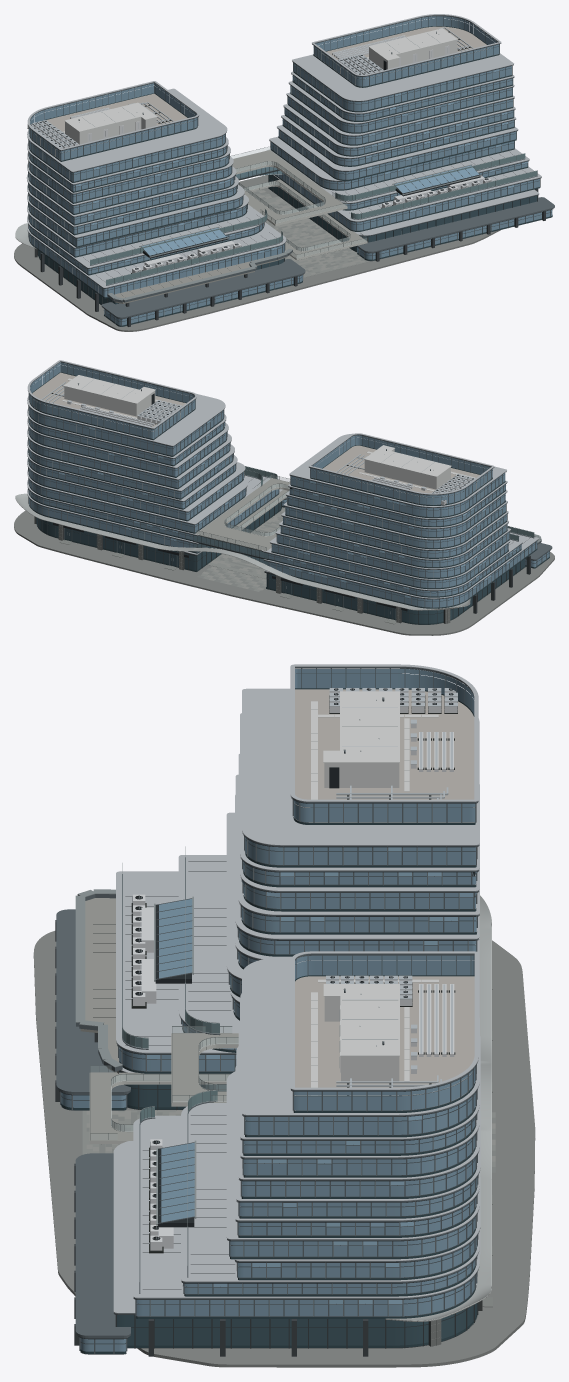
Rendered from zijin-kechuang-video-details-v1.glb.
3 views of the same model, one above another, from view 1: azimuth 30°, elevation 25°; view 2: azimuth 150°, elevation 25°; view 3: azimuth 270°, elevation 25° (orthographic). The views are drawn at different scales.
Parts seen in each view (by area): view 1: C_Foundation__stone, B_L11_FloorBands__edge, B_L12_Glazing__glass0, A_RearPodium_Canopy__metal, A_L12_Glazing__glass0, A_L11_FloorBands__edge, V4_庭院灰石错缝铺装, V4_L3_连续圆角天井连廊_含前部露台, B_RearPodium_Canopy__metal, B_L02_Glazing__glass0, B_L11_Glazing__glass0, A_L02_Glazing__glass0 (+95 smaller); view 2: C_Foundation__stone, A_L12_Glazing__glass0, B_L12_Glazing__glass0, A_L01_Glazing__glass0, V4_L3_连续圆角天井连廊_含前部露台, B_L01_Glazing__glass0, A_L02_Glazing__glass0, B_L11_FloorBands__edge, A_L11_Glazing__glass0, A_L04_Glazing__glass0, A_L05_Glazing__glass0, B_L11_Glazing__glass0 (+97 smaller); view 3: C_Foundation__stone, A_L11_FloorBands__edge, A_RoofDeck__roof, B_RoofDeck__roof, B_L11_FloorBands__edge, B_L03_FloorBands__edge, B_L01_Glazing__glass0, B_RearPodium_Canopy__metal, A_L03_FloorBands__edge, A_L02_FloorBands__edge, B_L02_FloorBands__edge, A_L12_Glazing__glass0 (+73 smaller).
Part boxes in pixels (x1,y1,x2,y2): C_Foundation__stone: (14, 175, 500, 331); B_L11_FloorBands__edge: (292, 34, 513, 100); B_L12_Glazing__glass0: (313, 16, 499, 86); A_RearPodium_Canopy__metal: (101, 259, 305, 318); A_L12_Glazing__glass0: (29, 83, 197, 160); A_L11_FloorBands__edge: (27, 88, 227, 171); V4_庭院灰石错缝铺装: (263, 198, 367, 276); V4_L3_连续圆角天井连廊_含前部露台: (232, 150, 347, 226); B_RearPodium_Canopy__metal: (357, 197, 554, 252); B_L02_Glazing__glass0: (276, 173, 539, 230); B_L11_Glazing__glass0: (293, 63, 511, 110); A_L02_Glazing__glass0: (29, 234, 284, 295); C_Foundation__stone: (14, 507, 554, 635); A_L12_Glazing__glass0: (310, 435, 492, 504); B_L12_Glazing__glass0: (30, 362, 195, 438); A_L01_Glazing__glass0: (266, 559, 526, 623); V4_L3_连续圆角天井连廊_含前部露台: (196, 478, 290, 551); B_L01_Glazing__glass0: (36, 501, 281, 570); A_L02_Glazing__glass0: (268, 542, 535, 607); B_L11_FloorBands__edge: (27, 366, 225, 445); A_L11_Glazing__glass0: (291, 473, 505, 516); A_L04_Glazing__glass0: (272, 544, 508, 587); A_L05_Glazing__glass0: (277, 532, 509, 577); B_L11_Glazing__glass0: (29, 407, 223, 455); C_Foundation__stone: (33, 931, 535, 1367); A_L11_FloorBands__edge: (242, 688, 479, 845); A_RoofDeck__roof: (294, 689, 474, 822); B_RoofDeck__roof: (295, 976, 474, 1110); B_L11_FloorBands__edge: (242, 957, 479, 1115); B_L03_FloorBands__edge: (181, 1103, 479, 1281); B_L01_Glazing__glass0: (117, 1305, 473, 1345); B_RearPodium_Canopy__metal: (75, 1153, 130, 1337); A_L03_FloorBands__edge: (178, 855, 239, 1033); A_L02_FloorBands__edge: (116, 871, 235, 1053); B_L02_FloorBands__edge: (133, 1115, 479, 1298); A_L12_Glazing__glass0: (294, 669, 475, 822).
Size of the model in its own units: 82 by 24.03 by 39.38.
